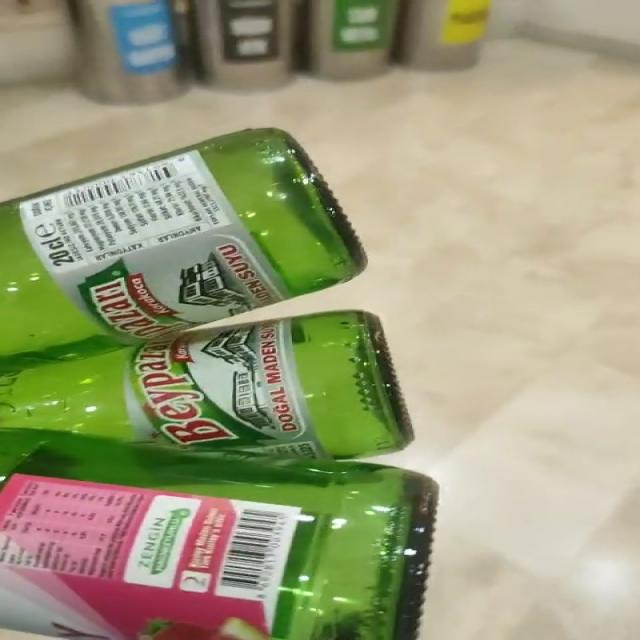glass: (1, 128, 439, 640)
